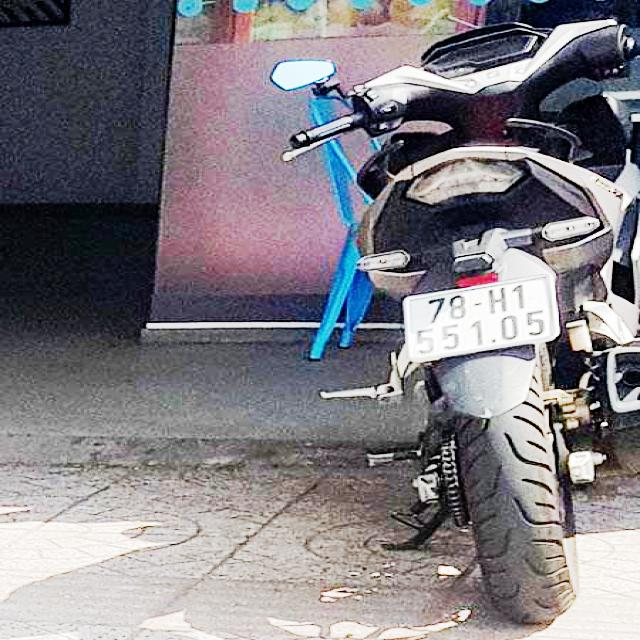license_plate: (403, 278, 555, 360)
